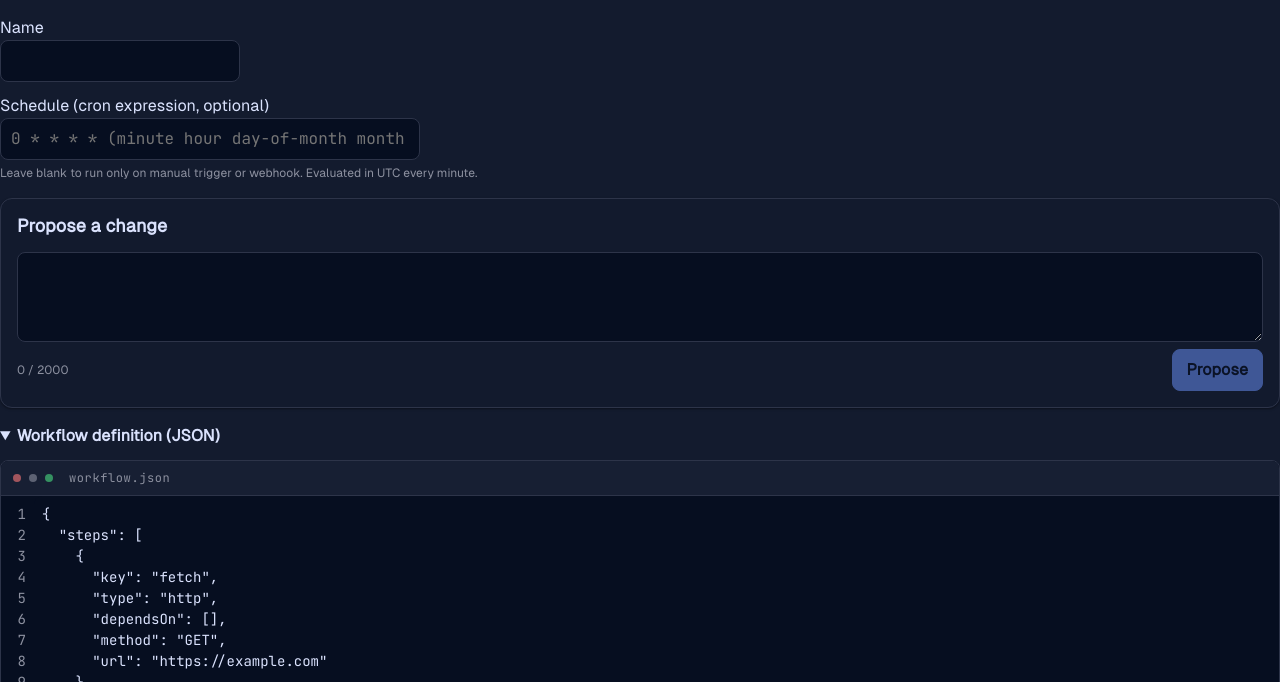
Scenario: WorkflowEditorPage — create › shows a stale banner on a 409 BASE_VERSION_STALE response
Type "nightly-etl" into the field labelled "Name".
click(120, 61); type("nightly-etl")  # box [0,40,240,82]
(page scrolled)
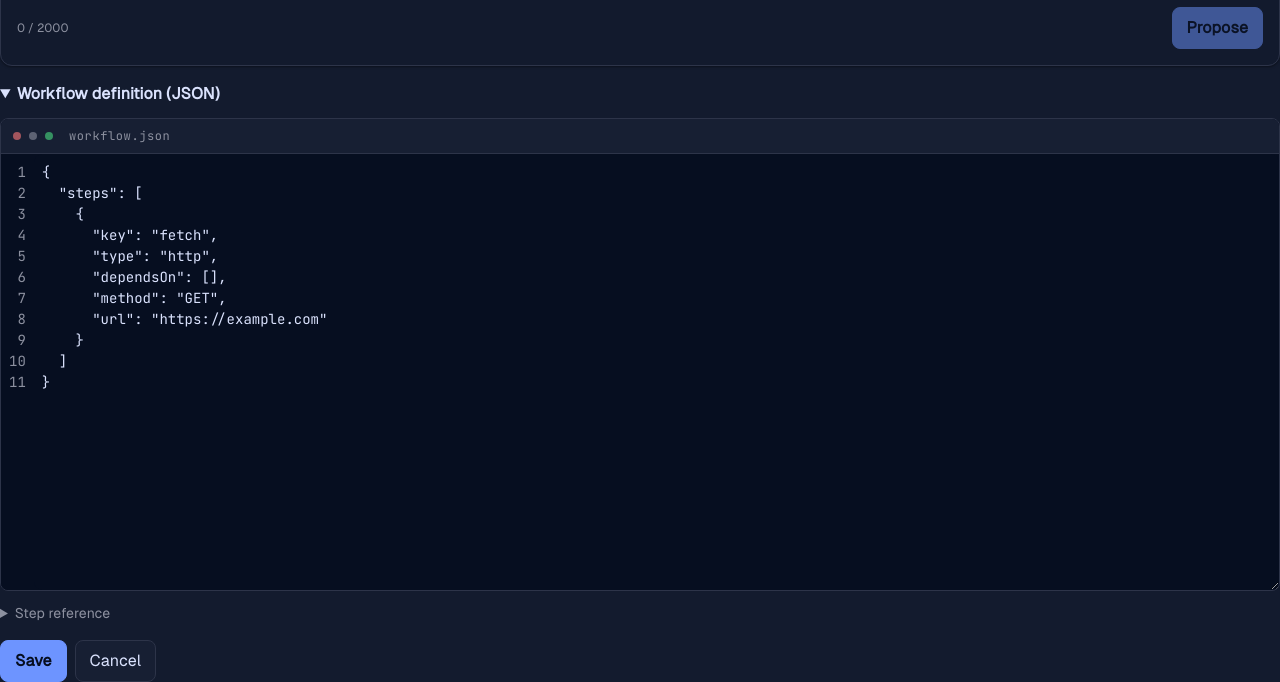
Click the button "Save".
click(33, 661)  # box [0,640,66,681]
(page scrolled)
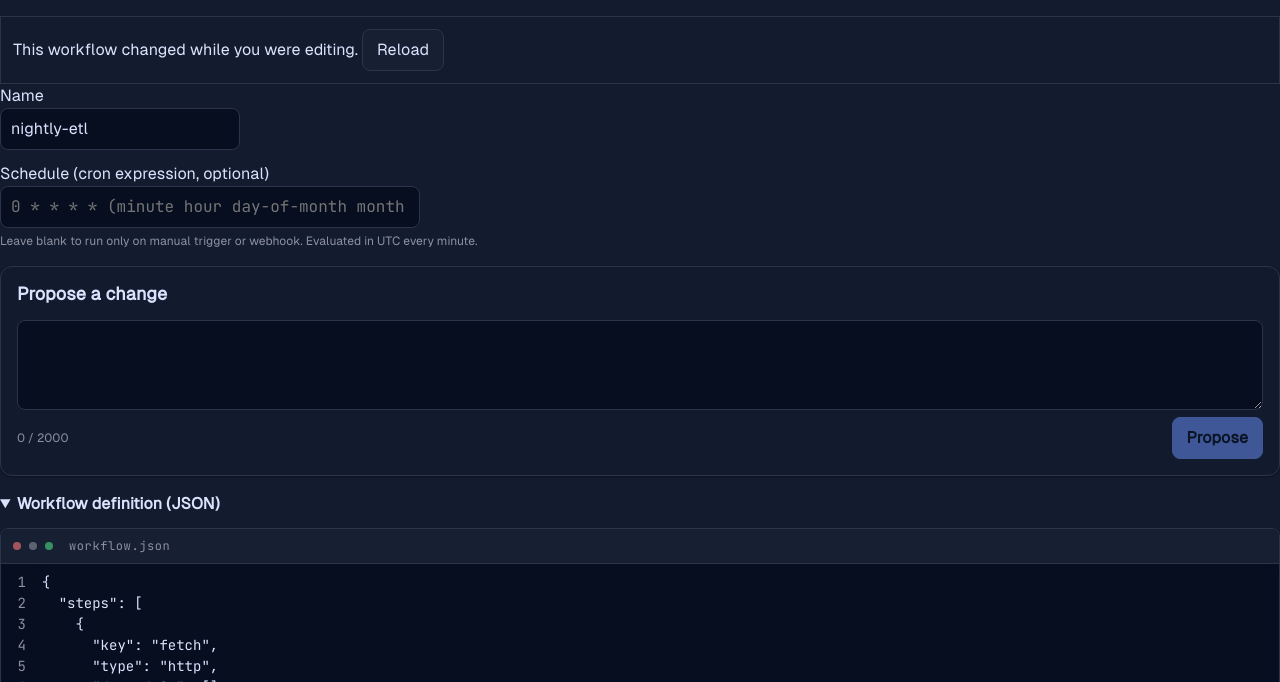
Now the message "This workflow changed while you were editing. Reload" is shown, box [0,16,1279,84]
